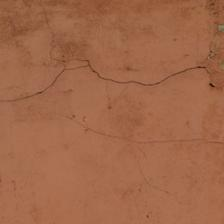Crack: (81, 56, 221, 94), (73, 119, 223, 154), (3, 65, 91, 107), (134, 144, 170, 198)
